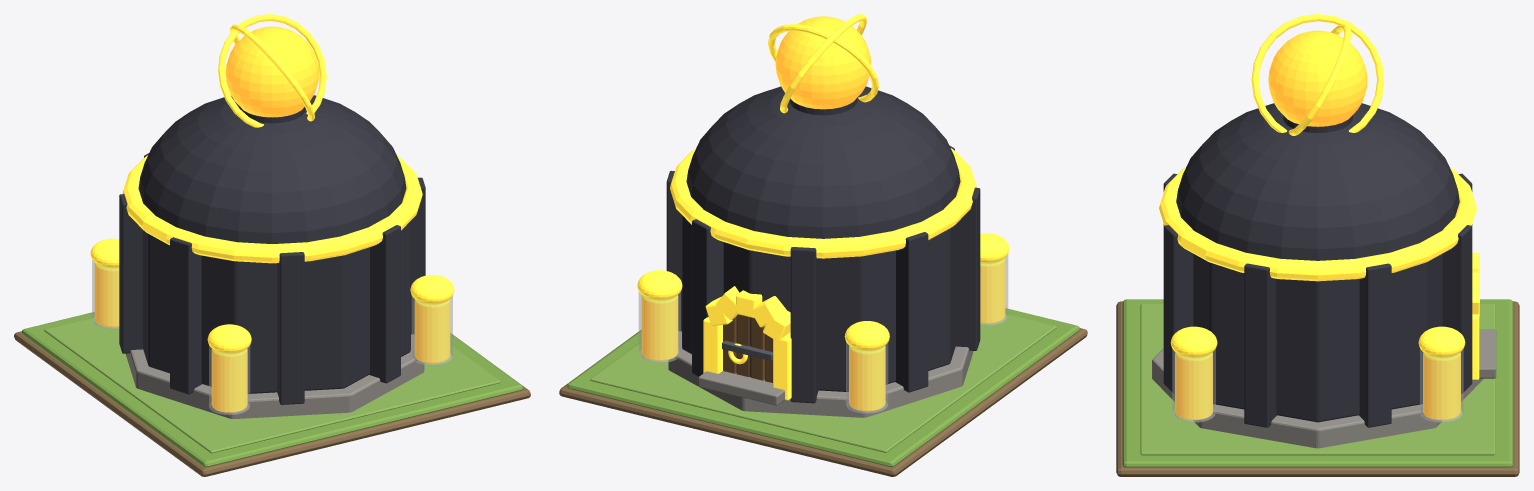
Rendered from laboratory_lv9.glb.
3 views of the same model, side by side, from view 1: azimuth 30°, elevation 25°; view 2: azimuth 150°, elevation 25°; view 3: azimuth 270°, elevation 25° (orthographic). The views are drawn at different scales.
Parts seen in each view (by area): view 1: LabDome, LabWallDrum, Base_Inner, Base_Grass, LabDomeRim, ArcaneOrb, LabPlinth, Base_Dirt, LabPillar_4, LabPillar_6, LabPillar_5, LabPillar_3 (+12 smaller); view 2: LabDome, LabWallDrum, Base_Inner, Base_Grass, LabDomeRim, ArcaneOrb, Base_Dirt, LabPlinth, LabPillar_3, LabPillar_2, LabPillar_4, LabPillar_1 (+19 smaller); view 3: LabDome, LabWallDrum, Base_Inner, Base_Grass, LabDomeRim, ArcaneOrb, Base_Dirt, LabPlinth, LabPillar_0, LabPillar_7, LabPillar_1, LabPillar_6 (+10 smaller).
Part boxes in pixels (x1,y1,x2,y2): LabDome: (138, 95, 406, 243); LabWallDrum: (142, 221, 410, 393); Base_Inner: (44, 317, 500, 453); Base_Grass: (21, 312, 523, 467); LabDomeRim: (122, 155, 422, 263); ArcaneOrb: (225, 26, 319, 117); LabPlinth: (125, 334, 424, 418); Base_Dirt: (14, 331, 530, 476); LabPillar_4: (170, 237, 201, 394); LabPillar_6: (369, 225, 400, 383); LabPillar_5: (277, 252, 304, 404); LabPillar_3: (119, 194, 142, 353); LabDome: (686, 86, 960, 238); LabWallDrum: (682, 215, 956, 391); Base_Inner: (590, 314, 1056, 452); Base_Grass: (567, 308, 1079, 466); LabDomeRim: (670, 148, 976, 258); ArcaneOrb: (775, 16, 871, 109); Base_Dirt: (559, 328, 1087, 476); LabPlinth: (668, 331, 973, 417); LabPillar_3: (895, 232, 928, 392); LabPillar_2: (790, 247, 818, 403); LabPillar_4: (955, 187, 980, 350); LabPillar_1: (692, 219, 723, 376); LabDome: (1176, 103, 1459, 260); LabWallDrum: (1193, 253, 1442, 422); Base_Inner: (1140, 304, 1495, 455); Base_Grass: (1122, 299, 1513, 467); LabDomeRim: (1159, 167, 1476, 281); ArcaneOrb: (1268, 30, 1367, 126); Base_Dirt: (1116, 301, 1519, 476); LabPlinth: (1152, 348, 1483, 448); LabPillar_0: (1359, 263, 1391, 427); LabPillar_7: (1244, 263, 1276, 427); LabPillar_1: (1442, 225, 1472, 393); LabPillar_6: (1163, 225, 1193, 393).
Size of the model in its own units: 2.76 by 2.76 by 2.76.
